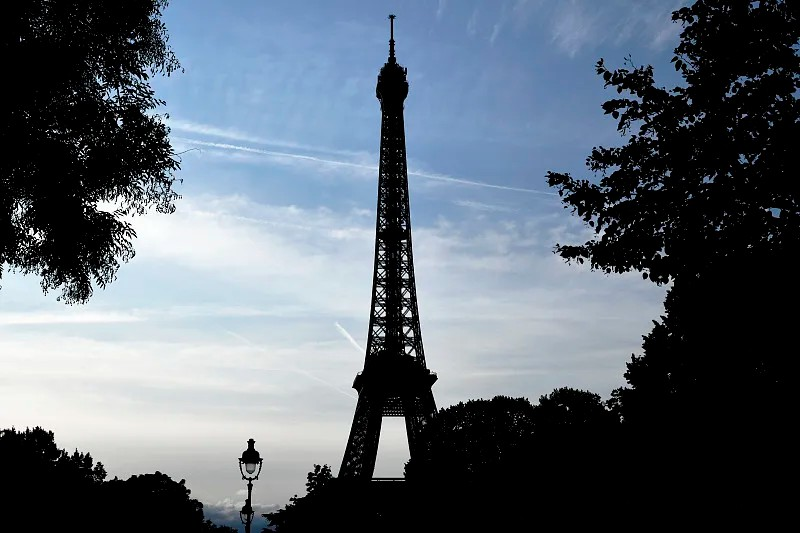Eiffel: (338, 13, 438, 482)
